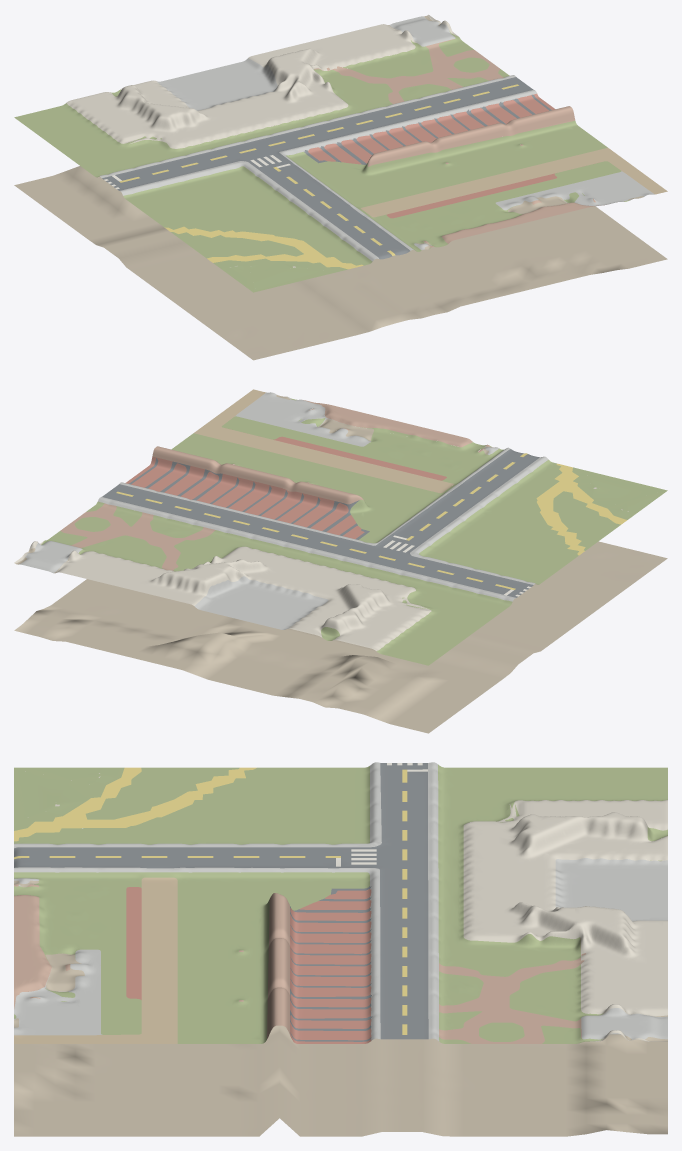
3 renders of one model, top to bottom at view 1: azimuth 30°, elevation 25°; view 2: azimuth 150°, elevation 25°; view 3: azimuth 270°, elevation 25°, orthographic. The views are drawn at different scales.
Parts seen in each view (by area): view 1: s_-10_-4__grass, s_-10_-4__soil, s_-10_-4__paving, s_-10_-4__stone_paving, s_-10_-4__asphalt, s_-10_-4__brick_paving, s_-10_-4__red_court, s_-10_-4__timber_deck, s_-10_-4__yellow_marking; view 2: s_-10_-4__soil, s_-10_-4__grass, s_-10_-4__paving, s_-10_-4__stone_paving, s_-10_-4__asphalt, s_-10_-4__red_court, s_-10_-4__brick_paving, s_-10_-4__timber_deck, s_-10_-4__yellow_marking; view 3: s_-10_-4__grass, s_-10_-4__soil, s_-10_-4__paving, s_-10_-4__asphalt, s_-10_-4__stone_paving, s_-10_-4__red_court, s_-10_-4__brick_paving, s_-10_-4__timber_deck, s_-10_-4__yellow_marking.
Part boxes in pixels (x1,y1,x2,y2): s_-10_-4__grass: [14, 31, 629, 292]; s_-10_-4__soil: [14, 15, 667, 360]; s_-10_-4__paving: [66, 14, 458, 267]; s_-10_-4__stone_paving: [100, 16, 654, 261]; s_-10_-4__asphalt: [102, 77, 551, 259]; s_-10_-4__brick_paving: [314, 39, 606, 247]; s_-10_-4__red_court: [308, 93, 557, 218]; s_-10_-4__timber_deck: [360, 148, 667, 217]; s_-10_-4__yellow_marking: [119, 84, 518, 269]; s_-10_-4__soil: [14, 395, 667, 733]; s_-10_-4__grass: [41, 398, 667, 665]; s_-10_-4__paving: [14, 475, 628, 650]; s_-10_-4__stone_paving: [19, 392, 548, 629]; s_-10_-4__asphalt: [102, 449, 539, 597]; s_-10_-4__red_court: [125, 436, 446, 538]; s_-10_-4__brick_paving: [60, 400, 489, 570]; s_-10_-4__timber_deck: [194, 389, 454, 493]; s_-10_-4__yellow_marking: [116, 453, 627, 589]; s_-10_-4__grass: [14, 764, 667, 1043]; s_-10_-4__soil: [14, 861, 667, 1136]; s_-10_-4__paving: [25, 771, 667, 1041]; s_-10_-4__asphalt: [14, 763, 428, 1041]; s_-10_-4__stone_paving: [14, 762, 667, 1041]; s_-10_-4__red_court: [126, 887, 371, 1043]; s_-10_-4__brick_paving: [14, 884, 585, 1043]; s_-10_-4__timber_deck: [14, 877, 177, 1043]; s_-10_-4__yellow_marking: [14, 767, 407, 1034].
Size of the model in its own units: 128 by 24.24 by 128.
